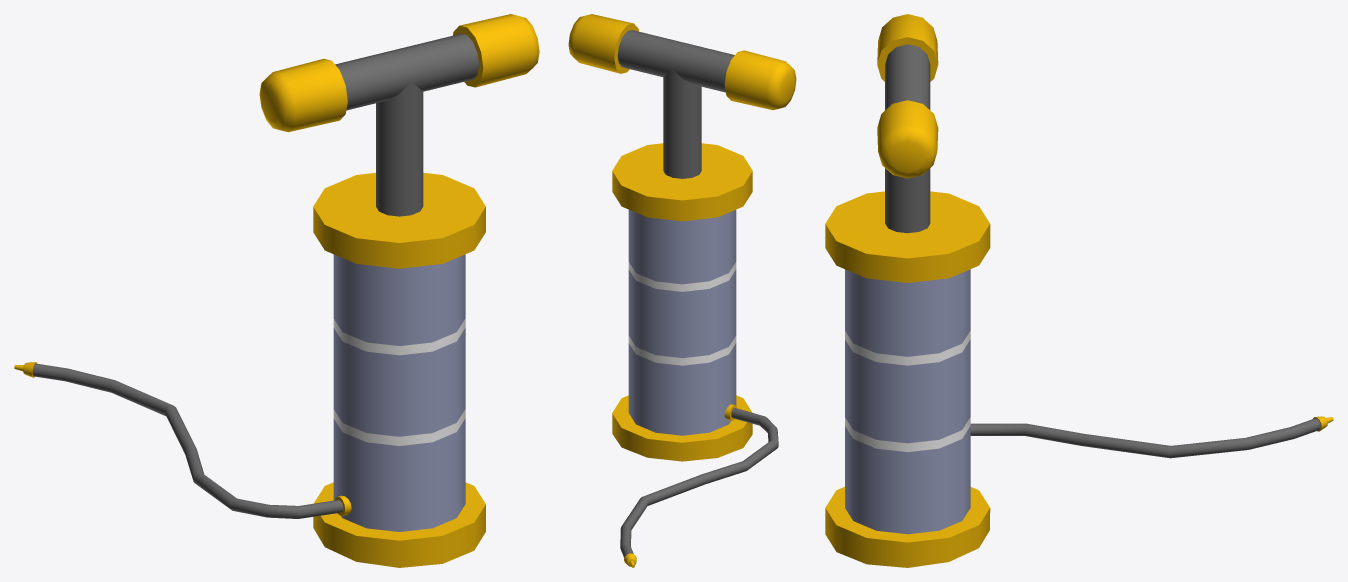
The model's file is Tire Inflator_3.fbx.
3 views of the same model, side by side, from view 1: azimuth 30°, elevation 25°; view 2: azimuth 150°, elevation 25°; view 3: azimuth 270°, elevation 25° (orthographic). The views are drawn at different scales.
Parts seen in each view (by area): view 1: Tire Inflator_3; view 2: Tire Inflator_3; view 3: Tire Inflator_3.
Boxes of the visible parts, <box> form: Tire Inflator_3: <box>14,14,539,567</box>; Tire Inflator_3: <box>568,14,796,567</box>; Tire Inflator_3: <box>825,14,1333,567</box>.
Bounding box in the file's own units: 0.2499 × 0.3978 × 0.3932.
